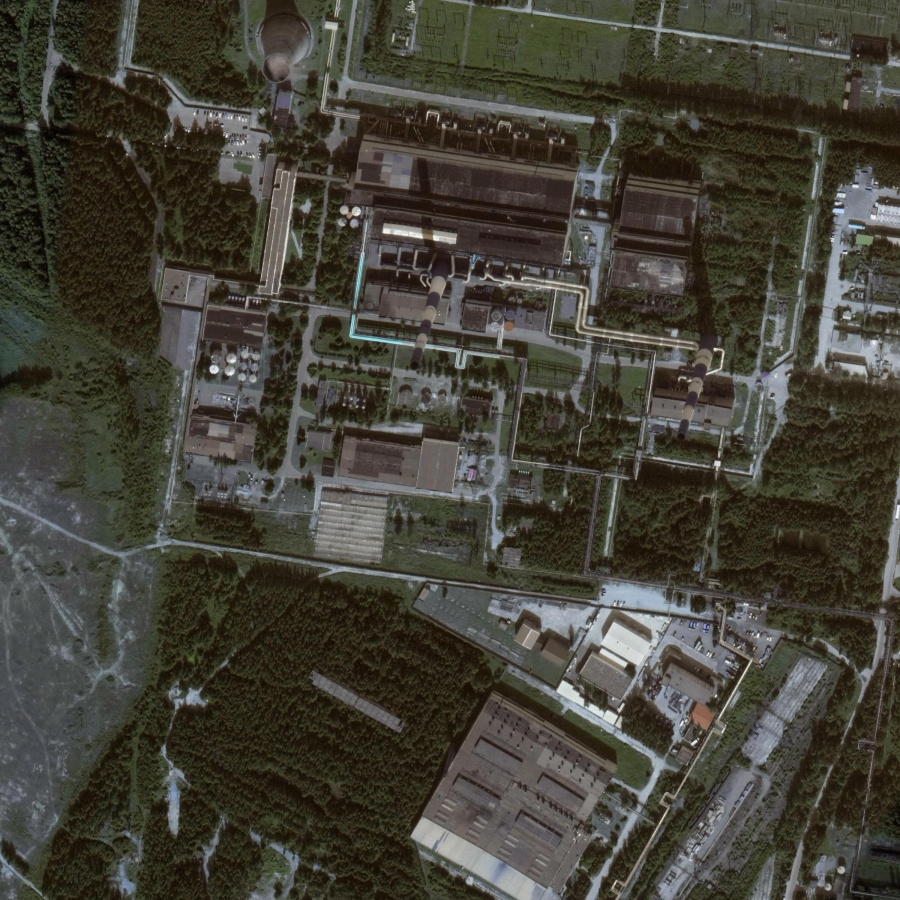PowerPlant: (363, 136, 721, 457)
